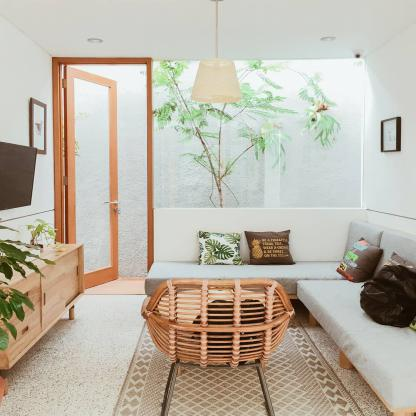lampu: (188, 59, 245, 104)
sova: (298, 219, 416, 415)
tanaman: (1, 235, 46, 356)
tv: (1, 138, 41, 209)
